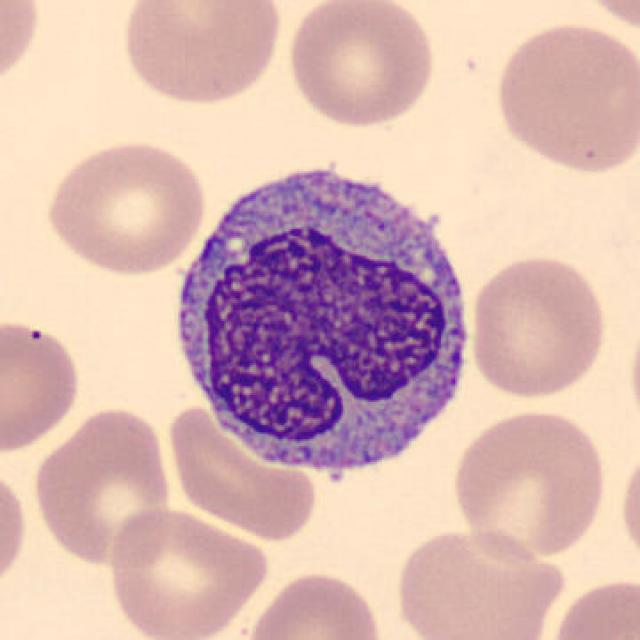Monocyte: (162, 146, 482, 490)
RBC: (448, 406, 610, 562), (28, 402, 176, 568), (162, 397, 323, 549), (41, 136, 210, 277), (489, 18, 638, 176), (103, 502, 270, 640), (466, 250, 610, 402), (282, 0, 439, 130), (391, 523, 565, 640), (115, 0, 284, 109), (0, 313, 85, 456), (242, 567, 386, 640), (544, 573, 638, 640), (0, 458, 30, 602), (0, 2, 44, 97), (615, 441, 640, 571), (567, 0, 640, 35)
